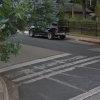Crosswalk: (18, 60, 99, 86)
